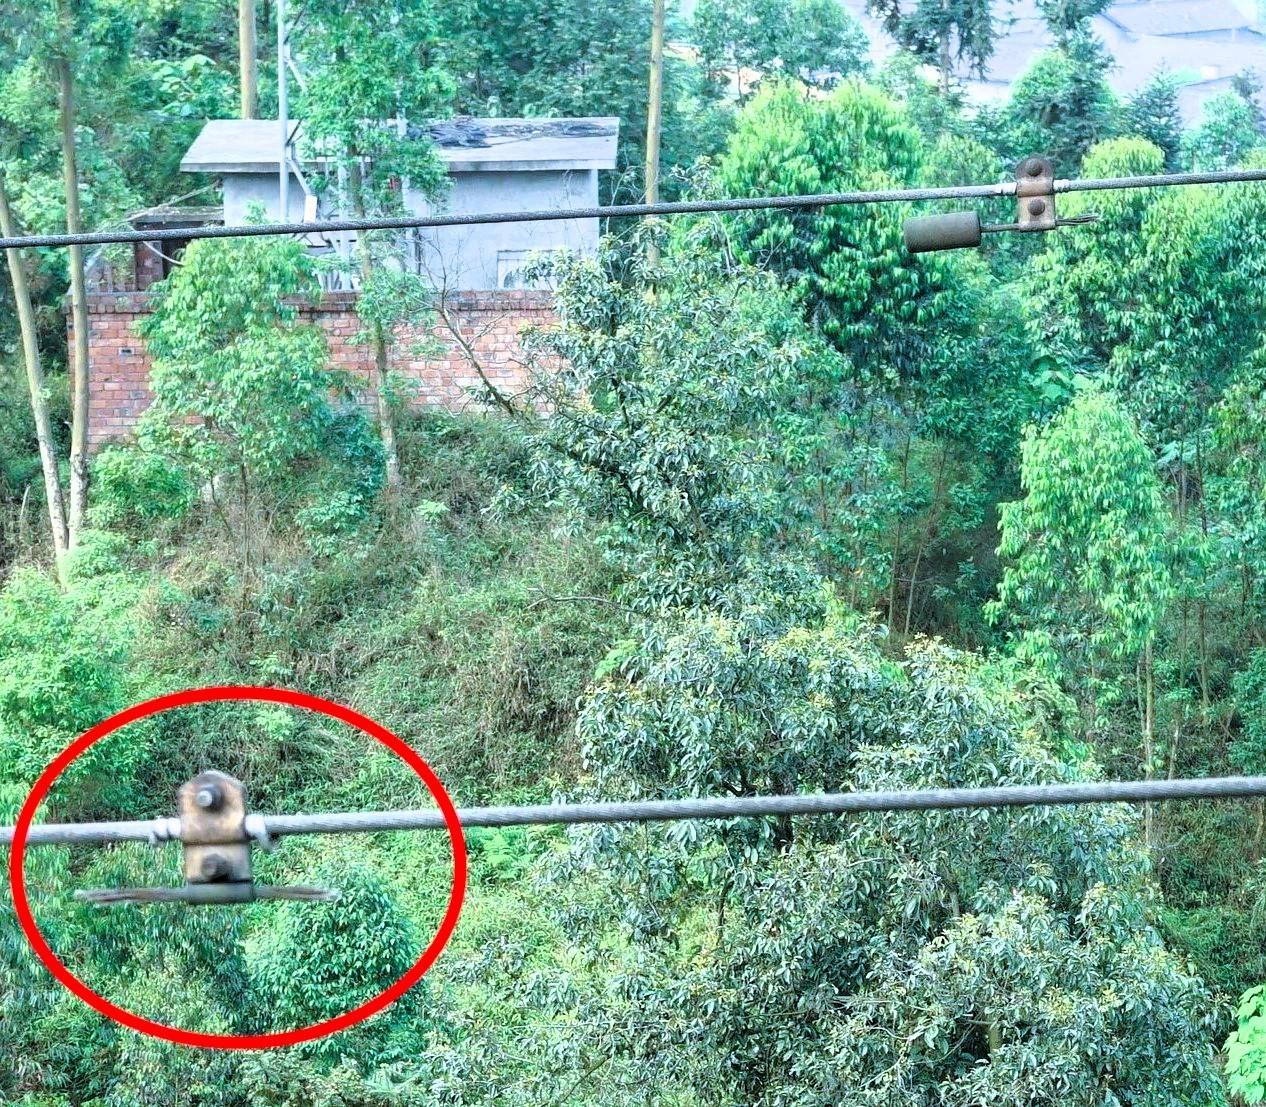Damage of shockproof hammer: (71, 756, 344, 934), (892, 137, 1119, 269)
